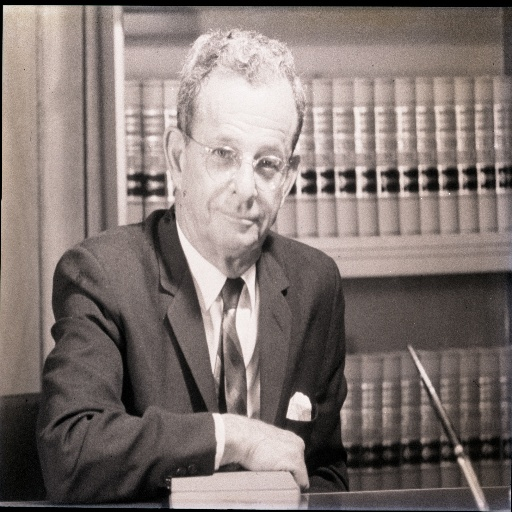hand: (198, 392, 307, 491)
